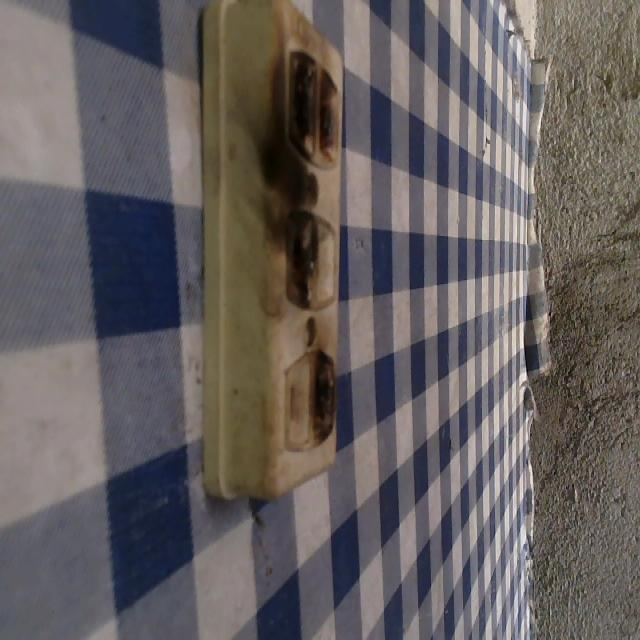-: (282, 49, 343, 171), (273, 203, 318, 312), (309, 344, 342, 448)
